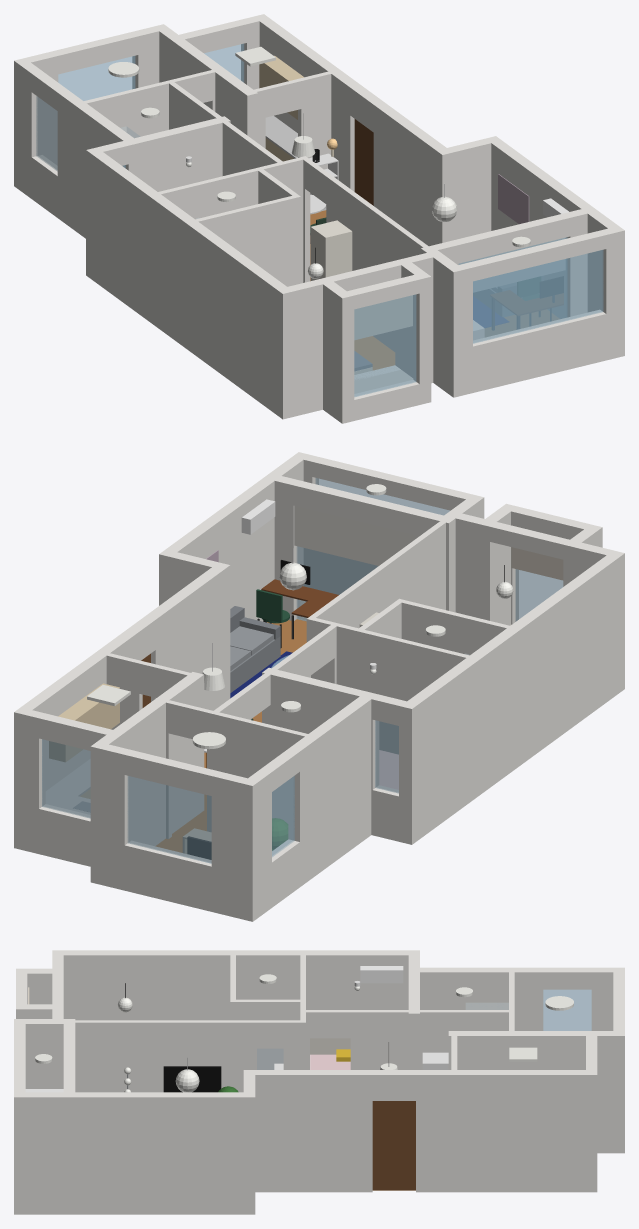
File: home.obj
3 views of the same model, one above another, from view 1: azimuth 30°, elevation 25°; view 2: azimuth 150°, elevation 25°; view 3: azimuth 270°, elevation 25° (orthographic). The views are drawn at different scales.
Visible parts, largest first — view 1: wall_west, window_balcony, wall_east_3, wall_balcony_s_2, wall_living_e, balcony_door, window_bedroom_b, wall_bath_b_s, wall_bedroom_a_n_4, wall_bedroom_b_s, wall_bedroom_b_e_3, wall_east (+52 smaller); view 2: wall_west, wall_study_e, wall_bath_a_w, wall_bedroom_a_s, wall_living_e, wall_east_3, wall_study_n, wall_bedroom_b_e_3, window_study_n, wall_study_n_4, wall_east, wall_study_s (+52 smaller); view 3: wall_living_e, wall_east, wall_west, wall_east_3, wall_bedroom_b_e_3, wall_study_e, wall_bath_a_w, entry_door, wall_hall_w_3, wall_balcony_w, wall_study_w_4, wall_living_step (+32 smaller).
Part boxes in pixels (<box>): wall_west: <box>86,150,293,419</box>; window_balcony: <box>473,250,603,343</box>; wall_east_3: <box>373,102,452,246</box>; wall_balcony_s_2: <box>473,310,606,392</box>; wall_living_e: <box>487,136,624,357</box>; balcony_door: <box>458,237,567,336</box>; window_bedroom_b: <box>354,294,416,396</box>; wall_bath_b_s: <box>189,195,300,286</box>; wall_bedroom_a_n_4: <box>123,116,230,191</box>; wall_bedroom_b_s: <box>276,278,327,419</box>; wall_bedroom_b_e_3: <box>326,175,435,351</box>; wall_east: <box>256,16,360,191</box>; wall_west: <box>400,550,624,844</box>; wall_study_e: <box>90,672,204,884</box>; wall_bath_a_w: <box>304,691,377,875</box>; wall_bedroom_a_s: <box>306,616,476,754</box>; wall_living_e: <box>159,452,309,621</box>; wall_east_3: <box>144,562,230,710</box>; wall_study_n: <box>211,771,259,921</box>; wall_bedroom_b_e_3: <box>335,513,453,628</box>; window_study_n: <box>127,776,211,863</box>; wall_study_n_4: <box>90,743,130,890</box>; wall_east: <box>14,635,130,850</box>; wall_study_s: <box>207,710,307,831</box>; wall_living_e: <box>14,1092,255,1214</box>; wall_east: <box>416,1070,597,1192</box>; wall_west: <box>52,950,419,1069</box>; wall_east_3: <box>243,1070,372,1192</box>; wall_bedroom_b_e_3: <box>63,1020,256,1092</box>; wall_study_e: <box>448,1031,624,1153</box>; wall_bath_a_w: <box>408,967,517,1069</box>; entry_door: <box>372,1101,415,1190</box>; wall_hall_w_3: <box>350,1010,420,1069</box>; wall_balcony_w: <box>14,1019,75,1088</box>; wall_study_w_4: <box>506,967,543,1030</box>; wall_living_step: <box>243,1070,255,1214</box>.
Bounding box in the file's own units: 724 × 272 × 1274.
